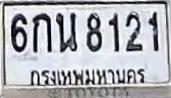1: (148, 11, 158, 51), (108, 12, 118, 51)
2: (125, 12, 142, 51)
6: (10, 12, 26, 52)
8: (86, 12, 101, 51)
A01: (32, 12, 51, 52)
A25: (55, 12, 77, 52)
BKK: (26, 64, 147, 87)
